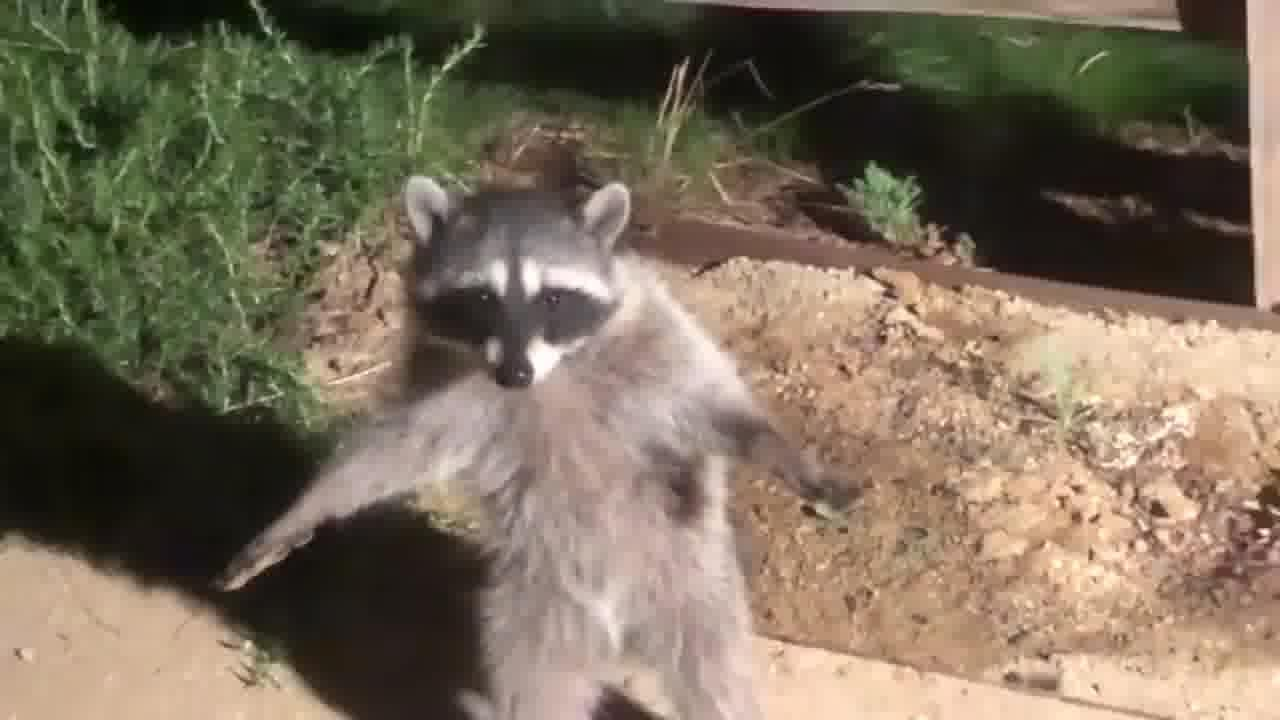raccoon: (204, 172, 869, 720)
